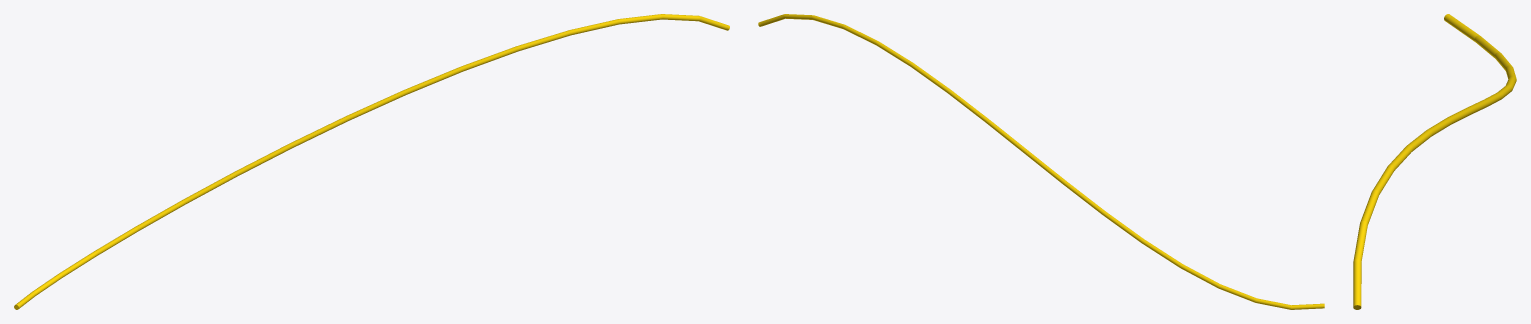
Rendered from Event_421115418_track_77.fbx.
3 renders of one model, left to right at view 1: azimuth 30°, elevation 25°; view 2: azimuth 150°, elevation 25°; view 3: azimuth 270°, elevation 25°, orthographic. The views are drawn at different scales.
Parts seen in each view (by area): view 1: Model; view 2: Model; view 3: Model.
Boxes of the visible parts, x1,y1,x2,y2 form: Model: [14, 14, 729, 309]; Model: [758, 14, 1324, 309]; Model: [1353, 14, 1516, 309].
Bounding box in the file's own units: 5.69 × 1.34 × 0.8004.
